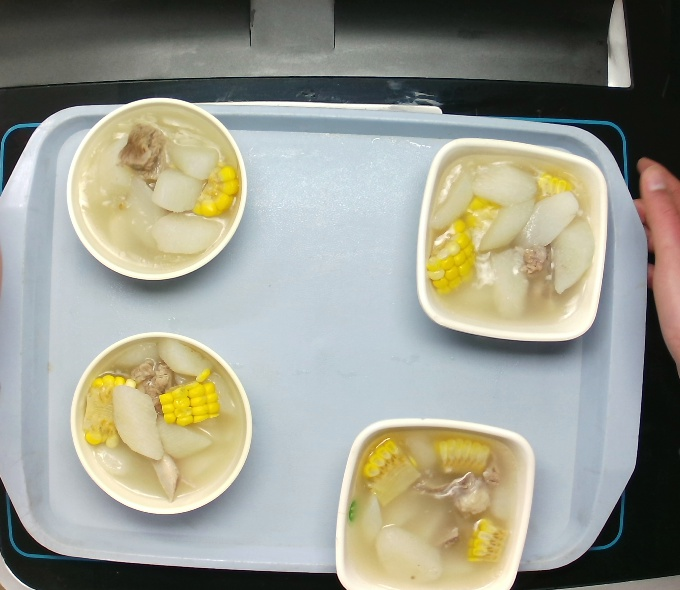wcq-ShanYaoYuMiTang: (423, 153, 598, 333), (75, 339, 246, 507), (344, 428, 523, 588), (74, 107, 238, 274)
